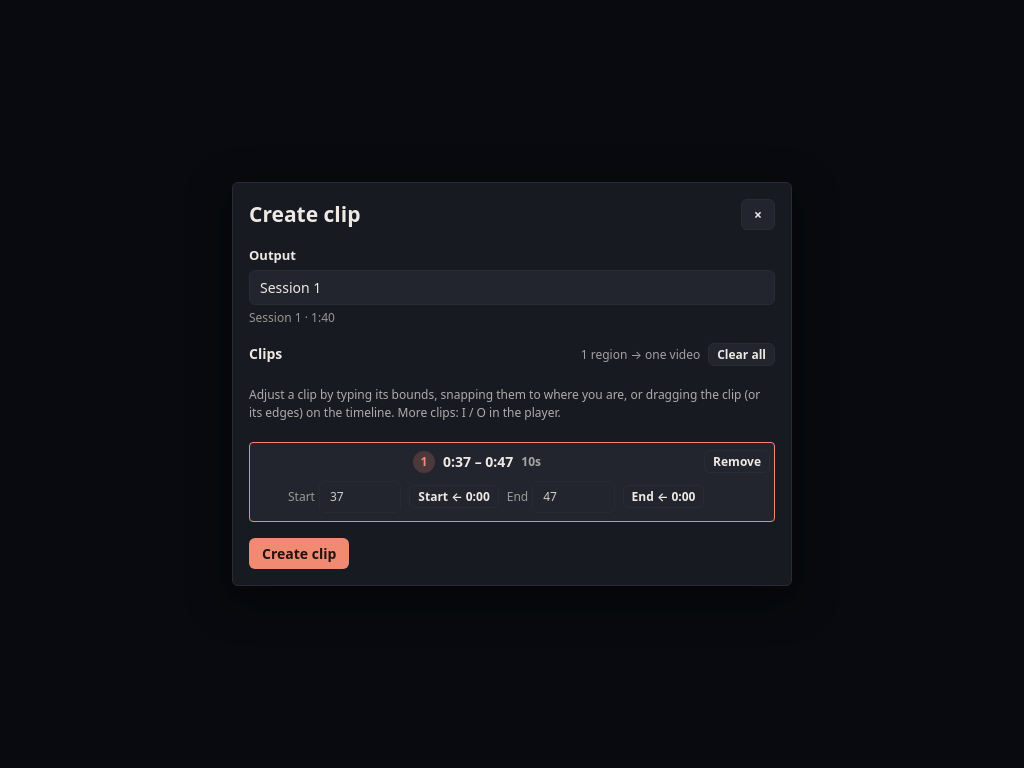
clip dialog: adjusting a region › typed bounds change the region, including the seeded default
This screenshot has width=1024, height=768.
Replace the text in the number field named "Clip 1 start, seconds" with "30" at point(360, 497), box [319, 481, 401, 513]
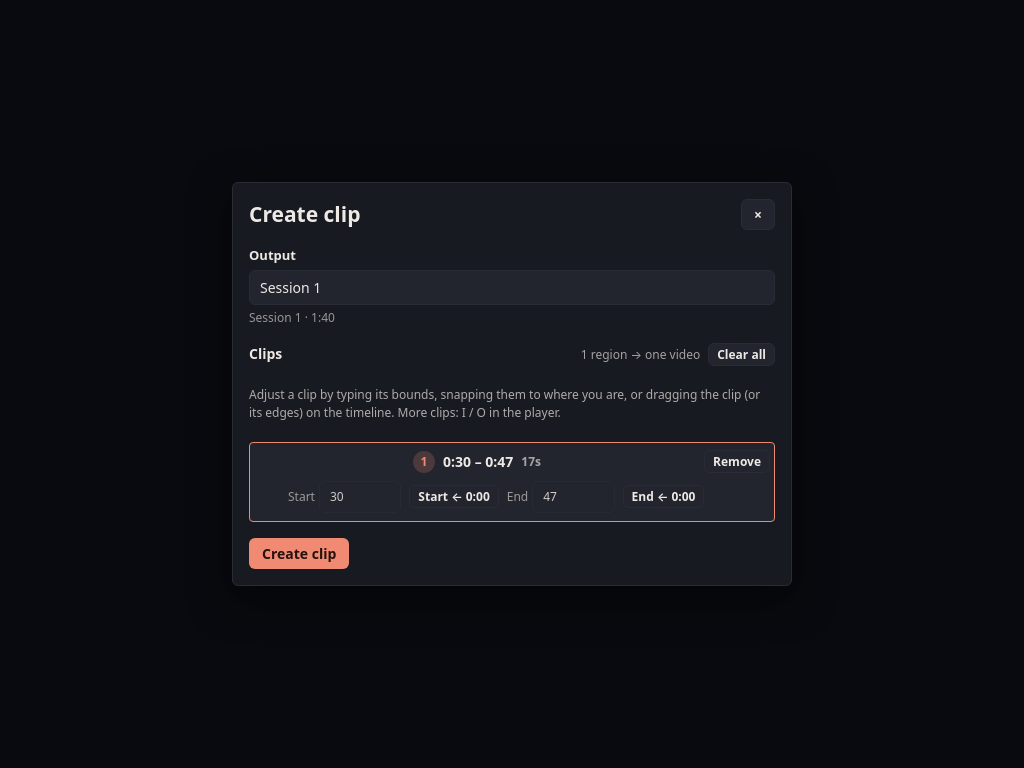
Replace the text in the number field named "Clip 1 end, seconds" with "52.5" at point(573, 497), box [532, 481, 615, 513]
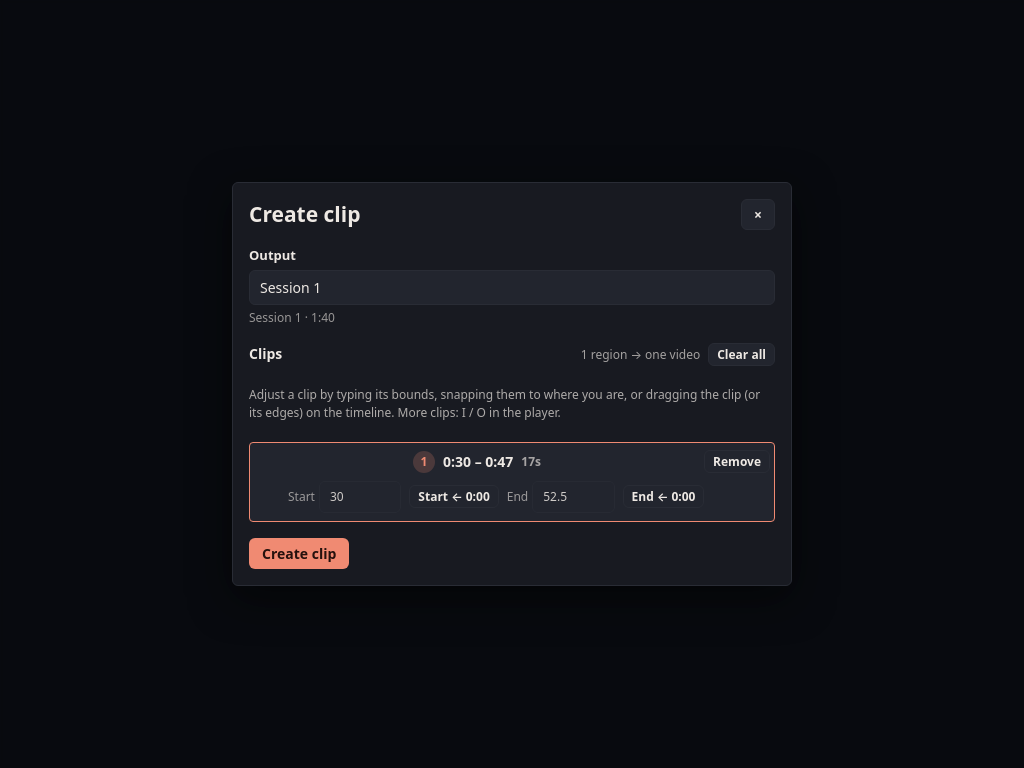
Leave the number field named "Clip 1 end, seconds", box [532, 481, 615, 513]
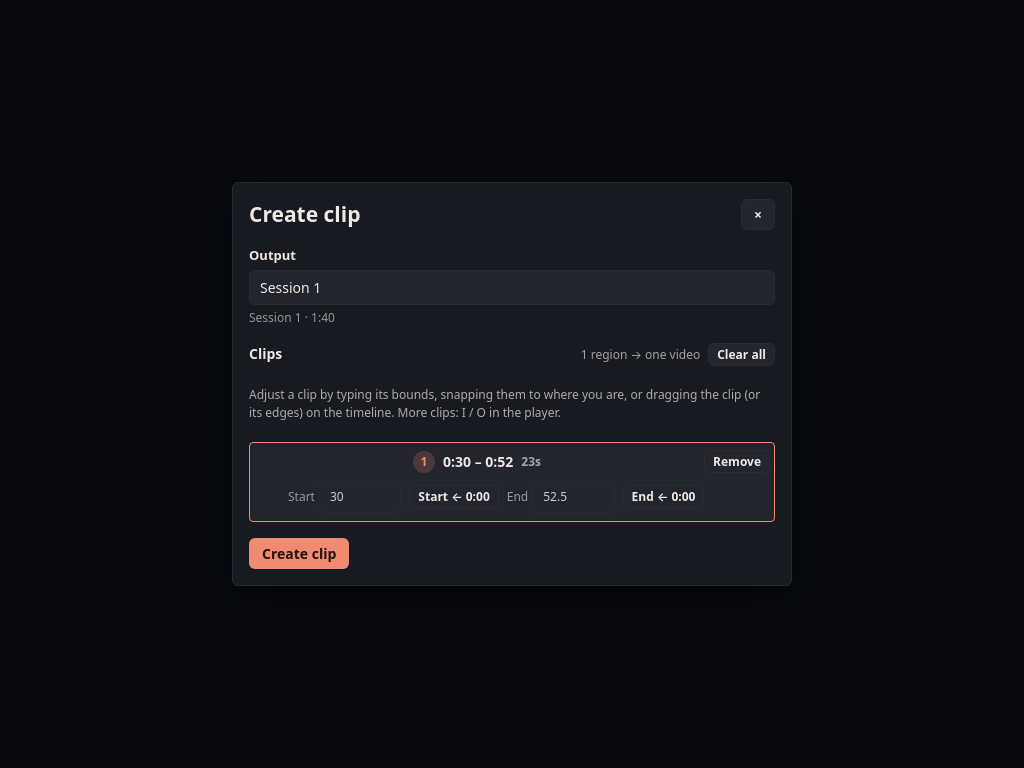
Expected: the button named "Deselect clip 1" shows "0:30 – 0:52", [258, 447, 696, 477]
